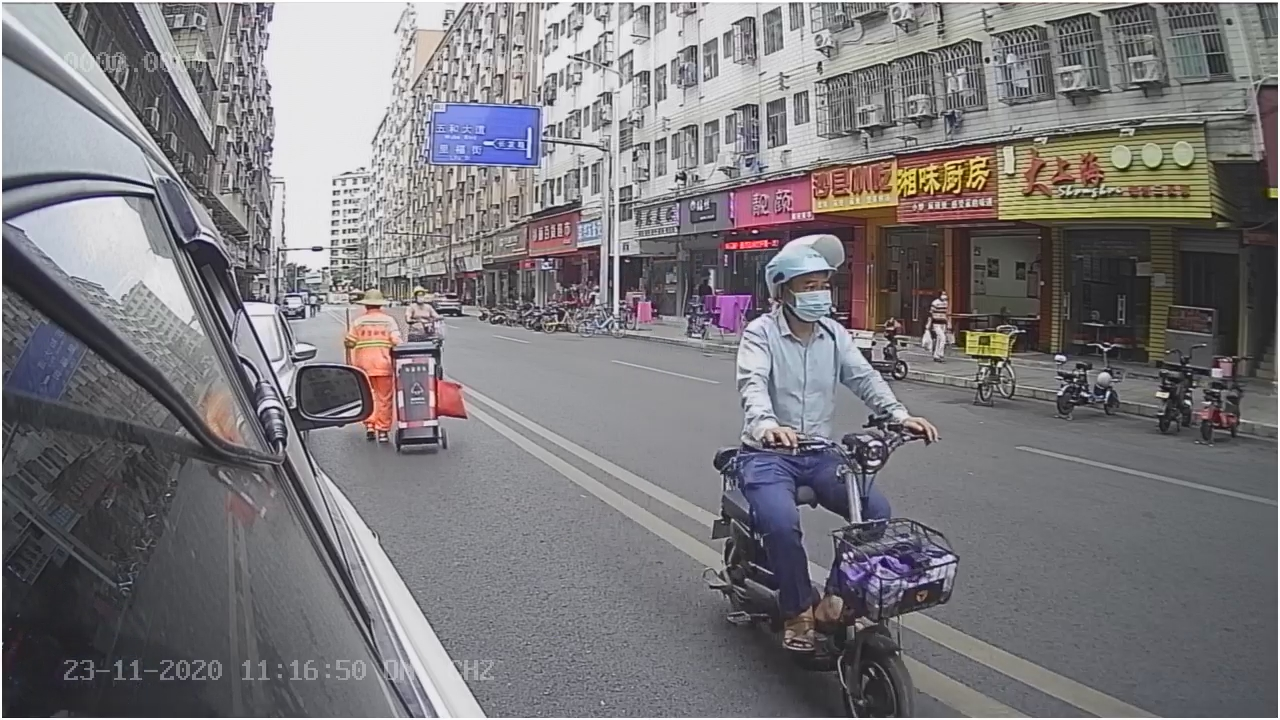person: (731, 230, 939, 436)
